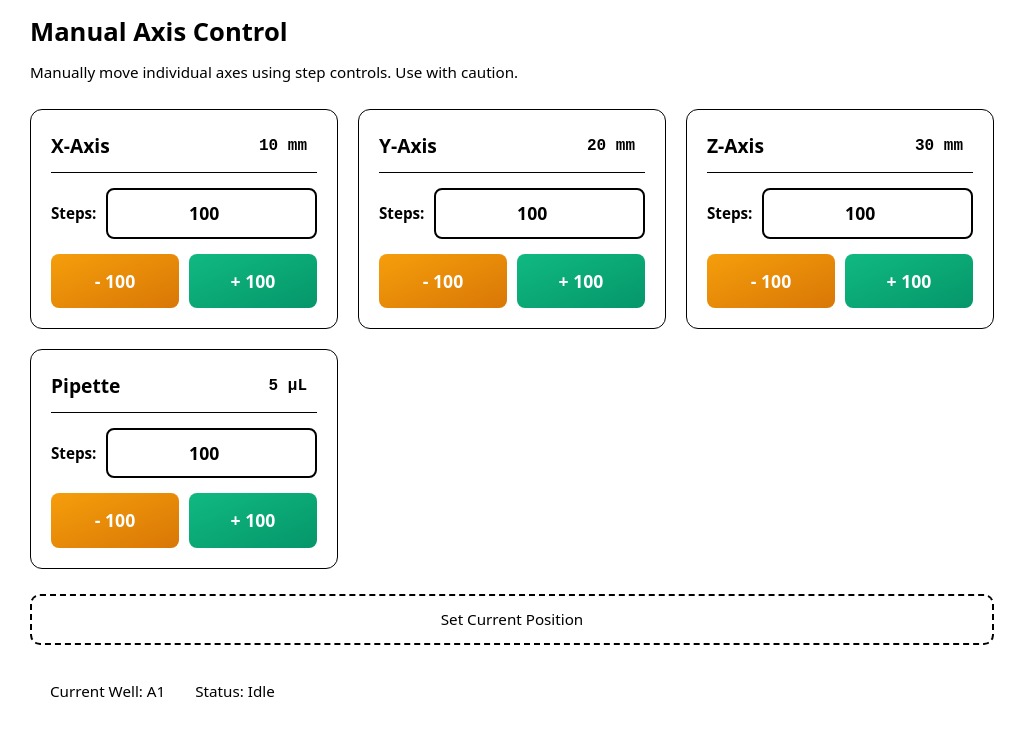
Test: ManualTab › Position edit mode › entering edit mode shows position form
Click the button "Set Current Position".
click(512, 619)  # box [30,594,994,645]
(page scrolled)
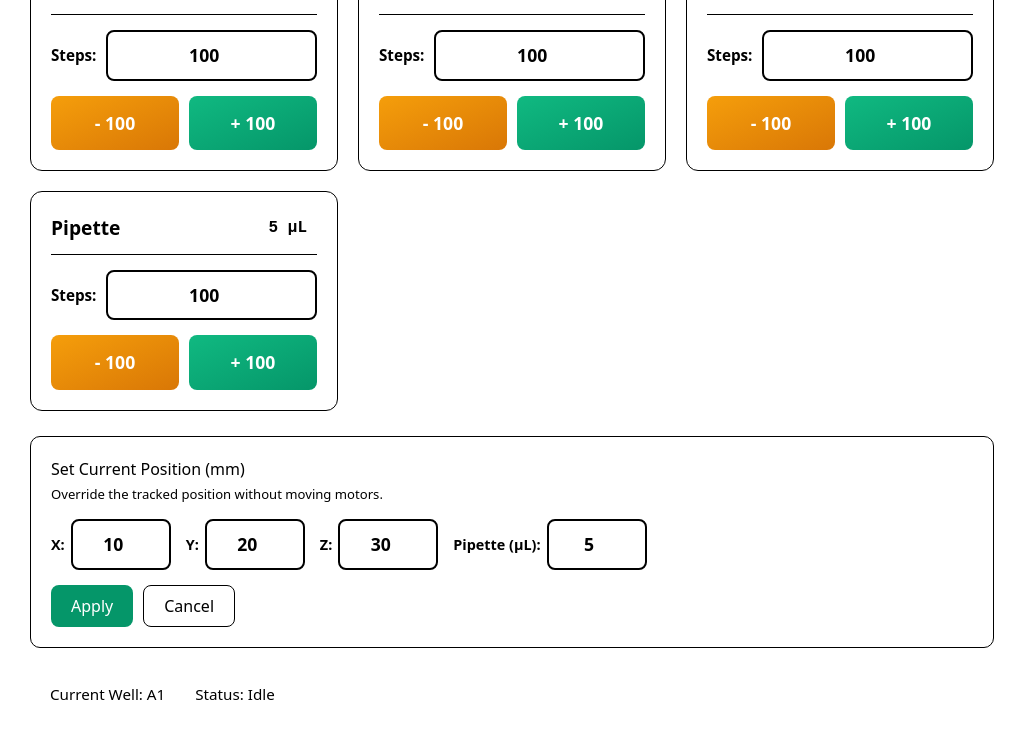
expect the heading "Set Current Position (mm)" is shown: met, box [51,458,245,480]
expect the button "Apply" is shown: met, box [51,585,133,627]
expect the button "Cancel" is shown: met, box [143,585,235,627]
